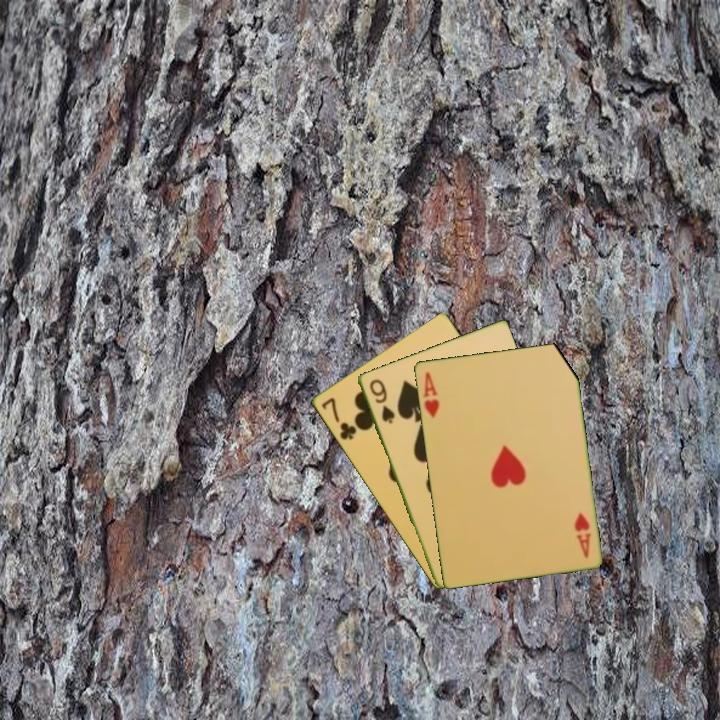7c: (317, 394, 359, 443)
9s: (366, 375, 397, 427)
Ah: (419, 368, 442, 421), (571, 509, 593, 560)
